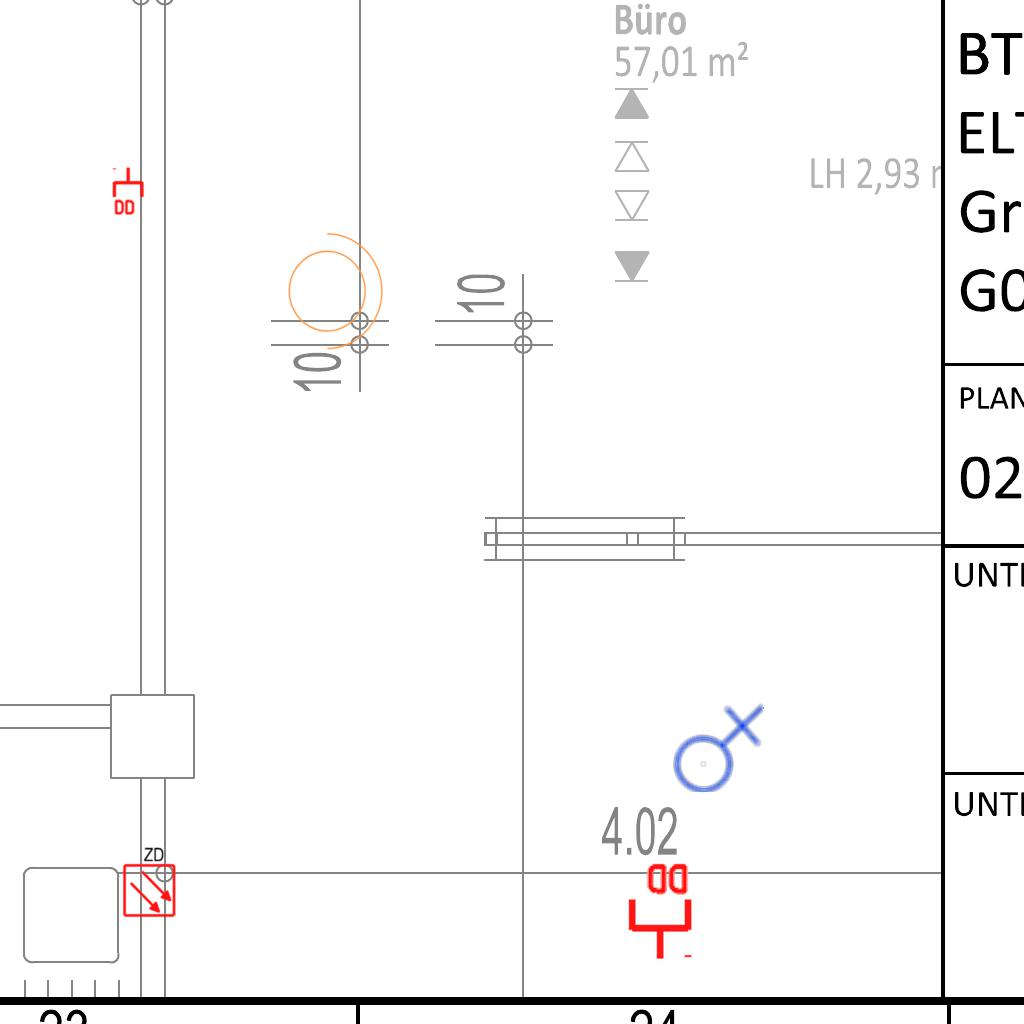Datenanschluss_zweifach: (624, 859, 693, 962), (112, 166, 146, 217)
Elektroanschluss_allgemein_230V_Geraeteanschlussdose_230V: (666, 700, 765, 794)
Scheinwerfer_fuer_Alarmbeleuchtung: (276, 222, 388, 354)
ZD_Melder_in_Zwischendecke_mit_Revisionsoeffnung_mind_40_x_40_cm: (120, 844, 177, 918)
